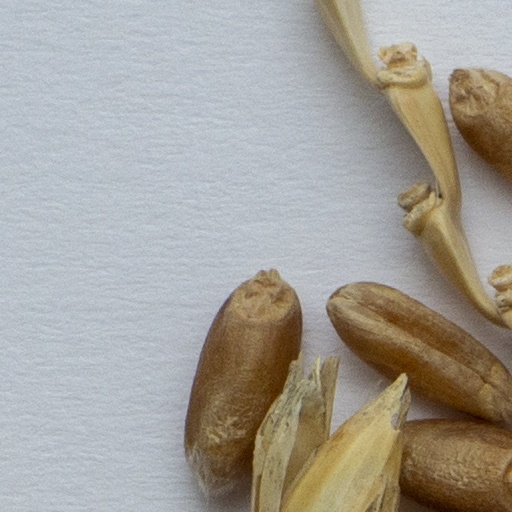Peel-poly: (312, 0, 511, 372), (251, 359, 402, 511)
